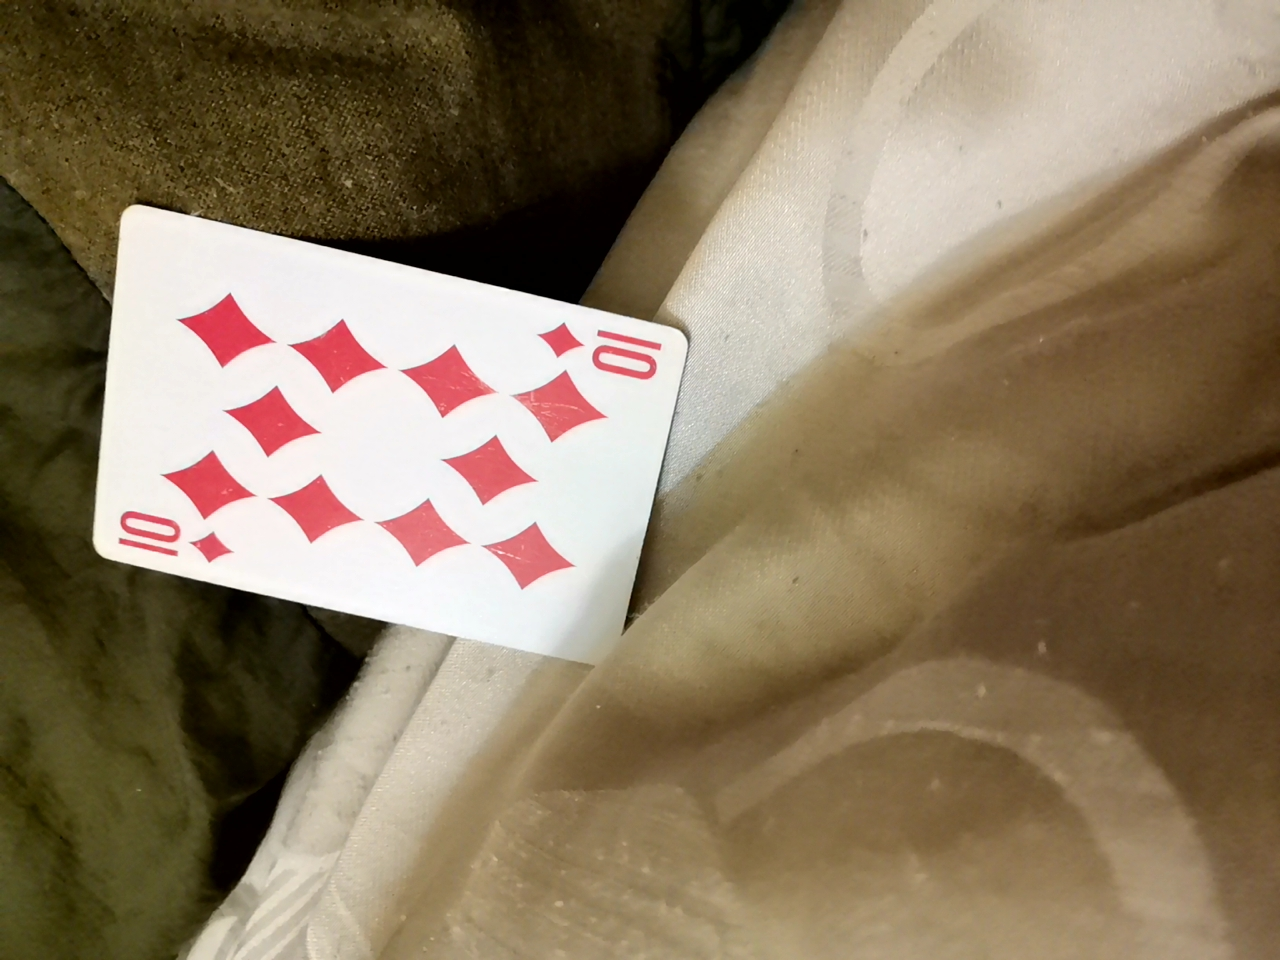fk 10: (55, 241, 678, 681)
